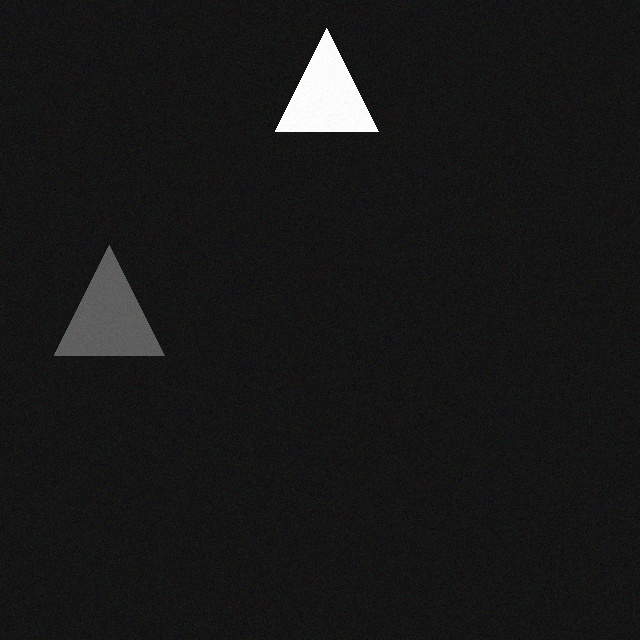triangle: (42, 233, 152, 343), (263, 16, 366, 119)
